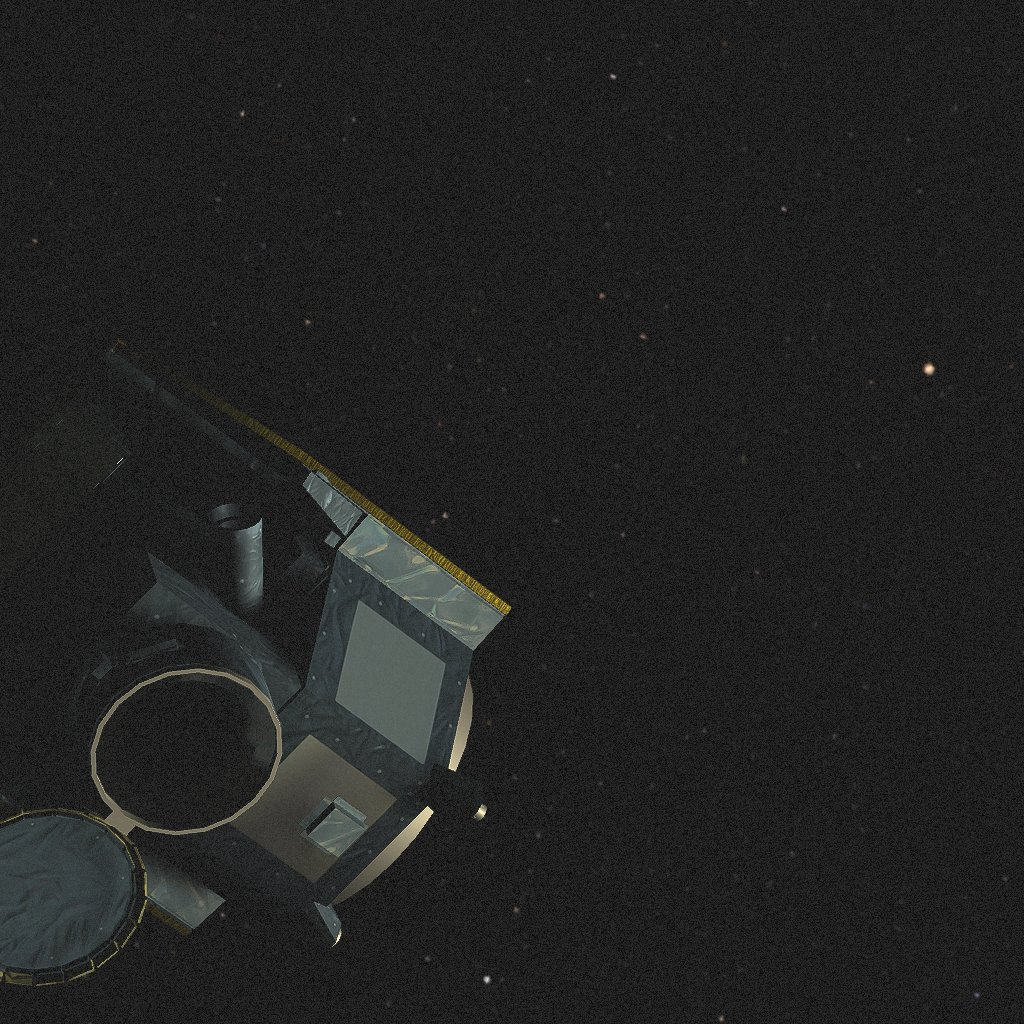cheops: (0, 338, 511, 986)
